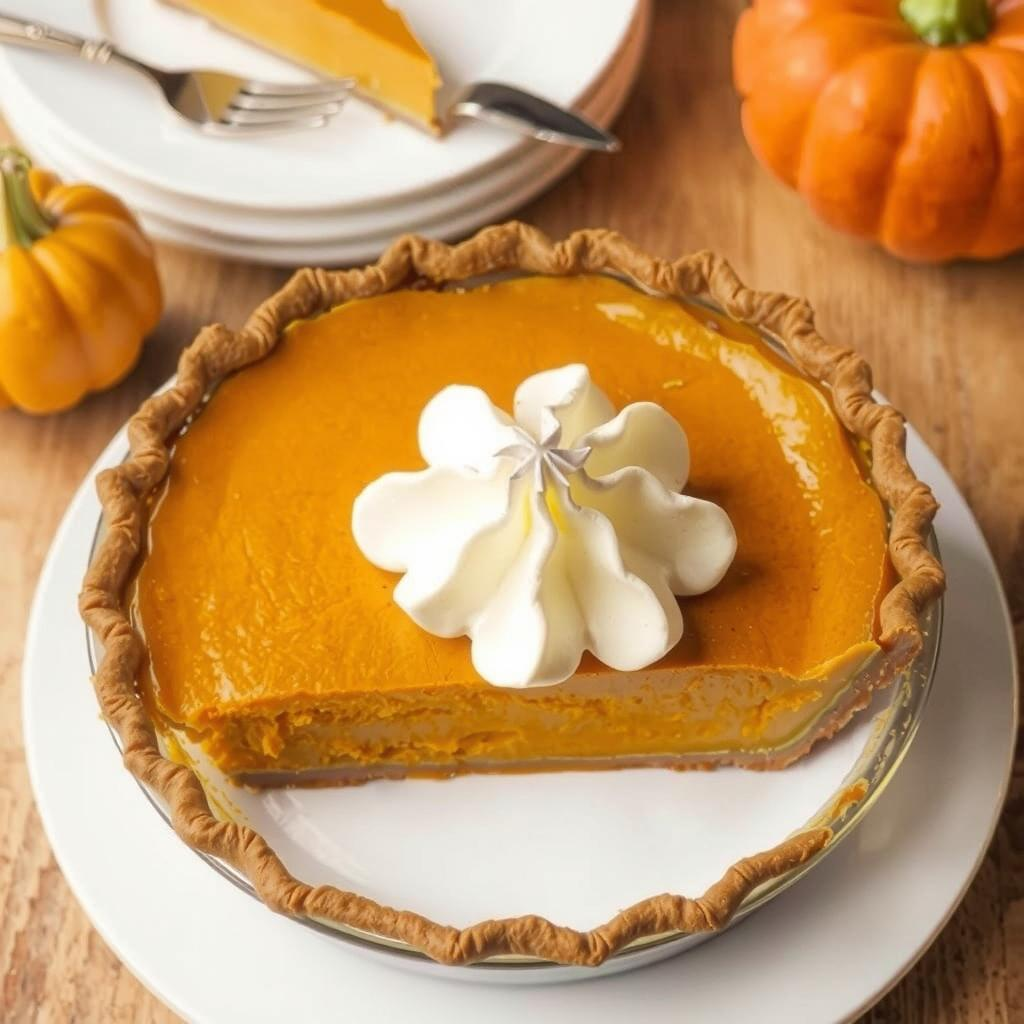pie: (69, 210, 950, 791)
